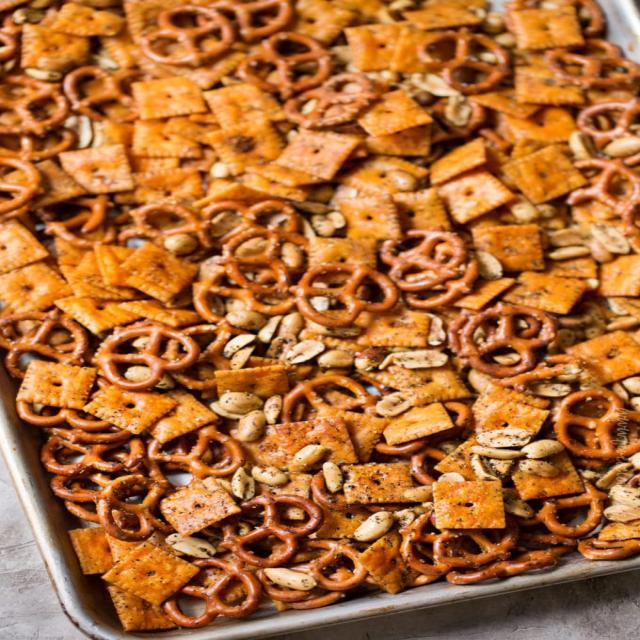Salatini: (8, 6, 628, 611)
